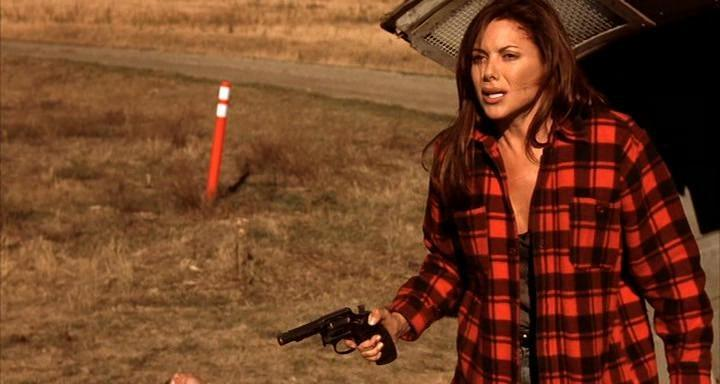gun: (273, 300, 401, 361)
